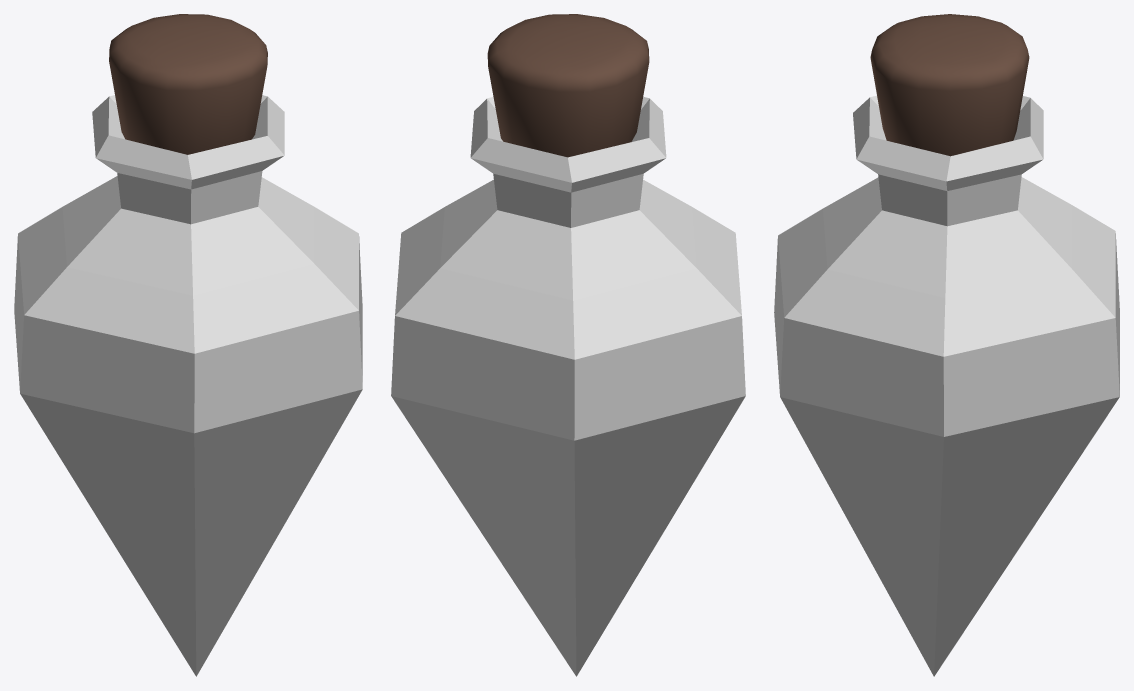
The model's file is SM_Potion10_Filled.fbx.
3 views of the same model, side by side, from view 1: azimuth 30°, elevation 25°; view 2: azimuth 150°, elevation 25°; view 3: azimuth 270°, elevation 25° (orthographic).
Visible parts, largest first — view 1: SM_Potion10_Filled; view 2: SM_Potion10_Filled; view 3: SM_Potion10_Filled.
Part boxes in pixels (x1,y1,x2,y2): SM_Potion10_Filled: (14,14,362,676); SM_Potion10_Filled: (391,14,745,676); SM_Potion10_Filled: (774,14,1119,676).
Size of the model in its own units: 43.79 by 77.42 by 37.92.
